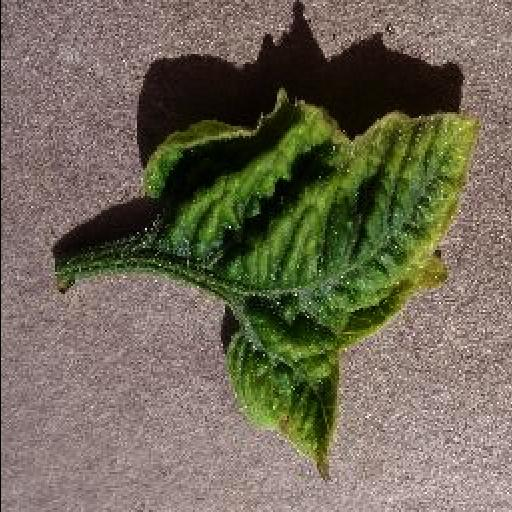disease_tomato: (137, 88, 479, 482)
